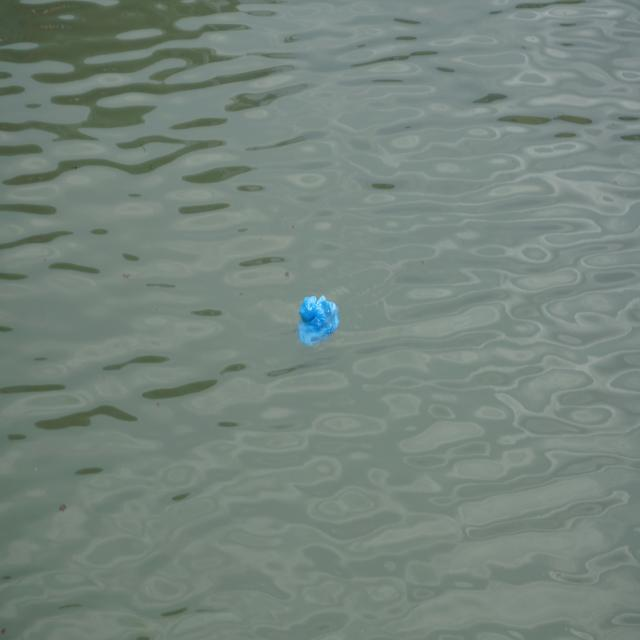Kantong Plastik: (298, 288, 342, 351)
